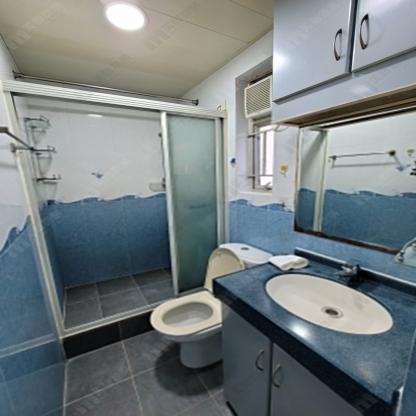Toilet: (149, 241, 277, 372)
Toilet Sink: (260, 272, 398, 339)
Water Cubicle: (2, 79, 231, 359)
